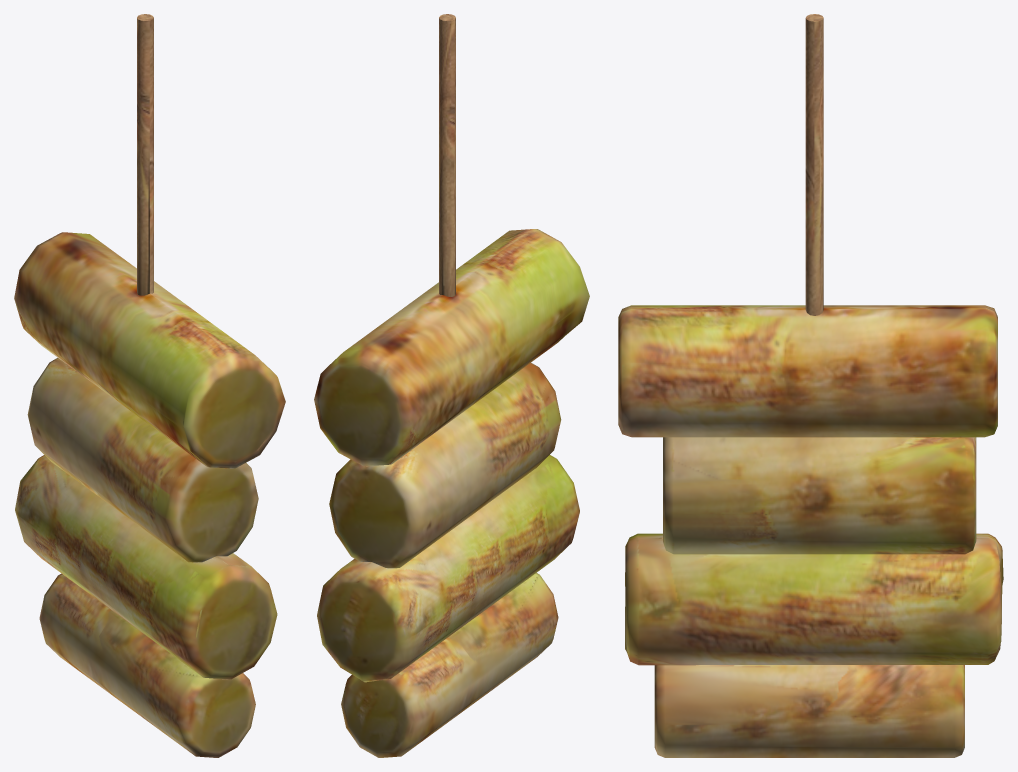
The model's file is greenonion.fbx.
3 renders of one model, left to right at view 1: azimuth 30°, elevation 25°; view 2: azimuth 150°, elevation 25°; view 3: azimuth 270°, elevation 25°, orthographic. The views are drawn at different scales.
Visible parts, largest first — view 1: greenonion; view 2: greenonion; view 3: greenonion.
Part boxes in pixels (x1,y1,x2,y2): greenonion: (14,14,285,757); greenonion: (314,14,589,757); greenonion: (618,14,1003,757).
Bounding box in the file's own units: 0.8647 × 5.58 × 2.64.
